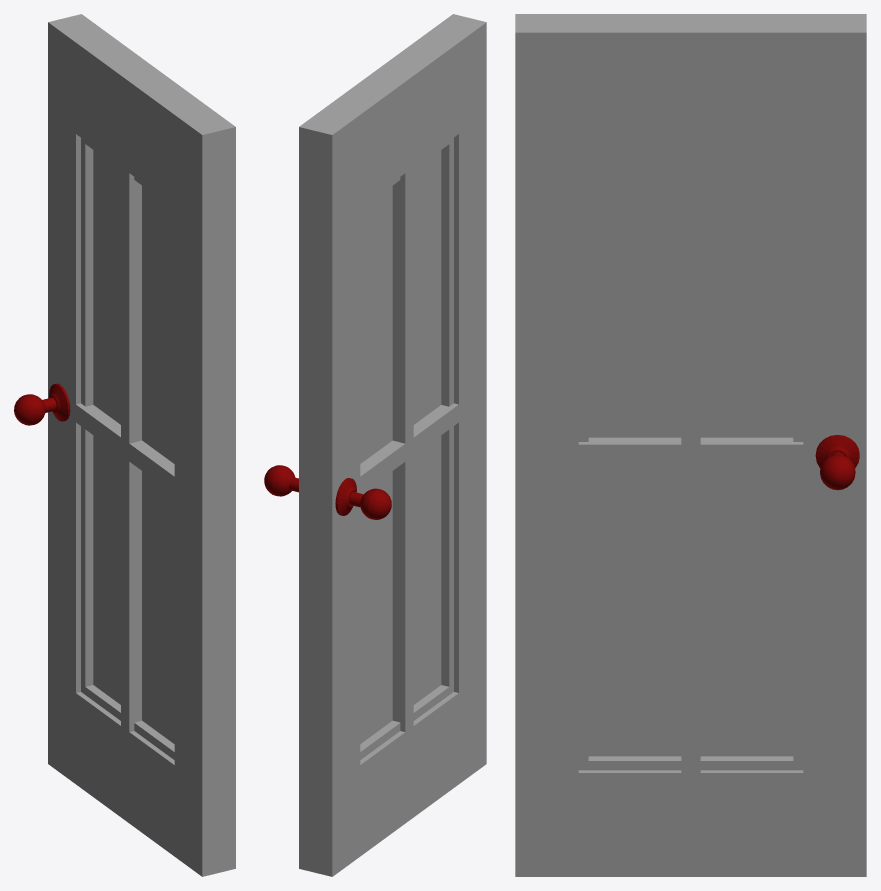
Rendered from door1.fbx.
3 renders of one model, left to right at view 1: azimuth 30°, elevation 25°; view 2: azimuth 150°, elevation 25°; view 3: azimuth 270°, elevation 25°, orthographic. The views are drawn at different scales.
Visible parts, largest first — view 1: pCube9, pCylinder16; view 2: pCube9, pCylinder16, pCylinder15; view 3: pCube9, pCylinder15.
Boxes of the visible parts, x1,y1,x2,y2 form: pCube9: (48, 14, 235, 876); pCylinder16: (14, 383, 70, 425); pCube9: (299, 14, 486, 876); pCylinder16: (335, 478, 391, 519); pCylinder15: (264, 465, 298, 496); pCube9: (515, 14, 866, 876); pCylinder15: (815, 435, 859, 490).
Size of the model in its own units: 1.72 by 9.89 by 3.73.
